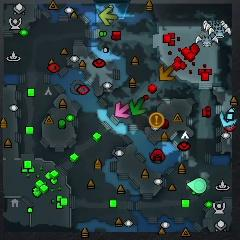Other: (149, 112, 164, 129)
p2: (187, 178, 208, 194)
x1: (115, 102, 131, 120)
x2: (99, 7, 118, 26)
x3: (219, 108, 236, 128)
x4: (128, 99, 146, 116)
x5: (158, 64, 175, 82)
